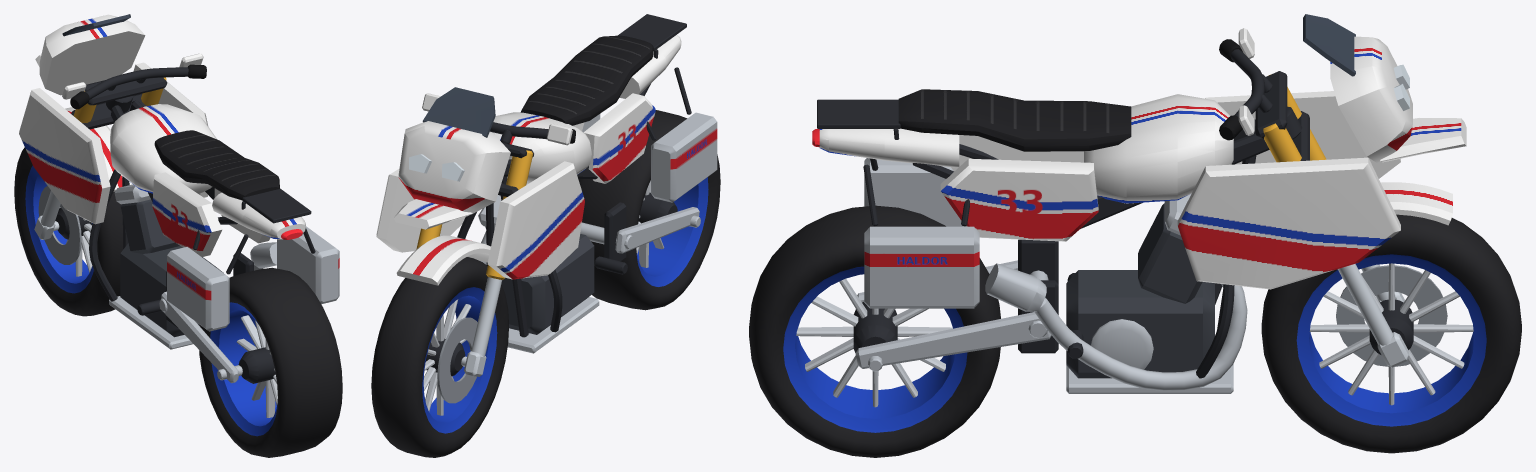
The model's file is MotorcycleTag_Adventure.obj.
The picture shows the model from 3 angles, left to right: view 1: azimuth 30°, elevation 25°; view 2: azimuth 150°, elevation 25°; view 3: azimuth 270°, elevation 25°; orthographic projection. The views are drawn at different scales.
Visible parts, largest first — view 1: Bodywork, RearWheel, FrontWheel, Panniers, Engine, Frame, Seat, Fork, Handlebars, Swingarm, Exhaust, FrontFender (+1 smaller); view 2: Bodywork, FrontWheel, RearWheel, Seat, Frame, Panniers, Engine, Fork, FrontFender, Windshield, Swingarm, Handlebars (+1 smaller); view 3: Bodywork, FrontWheel, RearWheel, Engine, Panniers, Frame, Seat, Exhaust, Fork, Swingarm, Handlebars, FrontFender (+1 smaller).
Part boxes in pixels (left/top/right/bottom): Bodywork: left=19, top=14, right=305, bottom=256; RearWheel: left=199, top=267, right=342, bottom=457; FrontWheel: left=14, top=147, right=122, bottom=316; Panniers: left=167, top=226, right=339, bottom=331; Engine: left=114, top=184, right=223, bottom=337; Frame: left=89, top=96, right=311, bottom=349; Seat: left=154, top=130, right=279, bottom=200; Fork: left=34, top=68, right=167, bottom=239; Handlebars: left=62, top=53, right=206, bottom=109; Swingarm: left=159, top=291, right=242, bottom=383; Exhaust: left=250, top=242, right=276, bottom=270; FrontFender: left=65, top=107, right=132, bottom=191; Bodywork: left=376, top=35, right=681, bottom=279; FrontWheel: left=371, top=257, right=508, bottom=457; RearWheel: left=578, top=109, right=720, bottom=310; Seat: left=520, top=35, right=653, bottom=125; Frame: left=457, top=14, right=686, bottom=353; Panniers: left=582, top=67, right=717, bottom=202; Engine: left=478, top=195, right=594, bottom=334; Fork: left=416, top=142, right=533, bottom=376; FrontFender: left=396, top=235, right=490, bottom=285; Windshield: left=422, top=87, right=495, bottom=137; Swingarm: left=580, top=207, right=700, bottom=253; Handlebars: left=422, top=93, right=575, bottom=145; Bodywork: left=819, top=36, right=1466, bottom=289; FrontWheel: left=1261, top=214, right=1521, bottom=453; RearWheel: left=749, top=205, right=1000, bottom=457; Engine: left=1066, top=194, right=1214, bottom=378; Panniers: left=863, top=158, right=979, bottom=308; Frame: left=817, top=99, right=1302, bottom=393; Seat: left=898, top=89, right=1131, bottom=151; Exhaust: left=985, top=263, right=1247, bottom=390; Fork: left=1255, top=71, right=1409, bottom=367; Swingarm: left=855, top=260, right=1051, bottom=371; Handlebars: left=1219, top=28, right=1272, bottom=140; FrontFender: left=1381, top=182, right=1452, bottom=225.
Bounding box in the file's own units: 2.3 × 4.99 × 8.31.
1 material, 1 textured.
